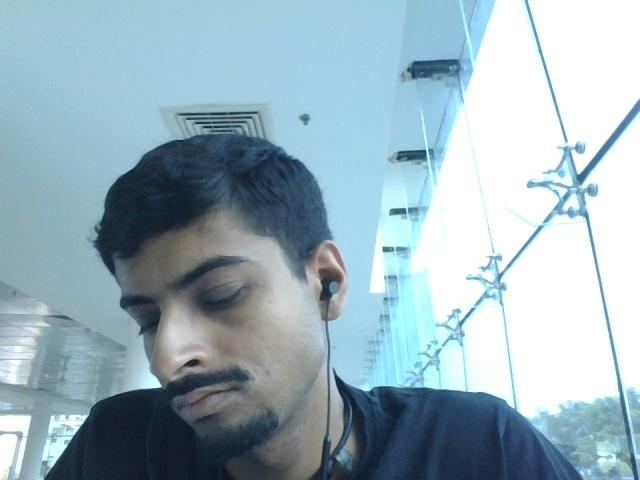average: (89, 135, 386, 451)
